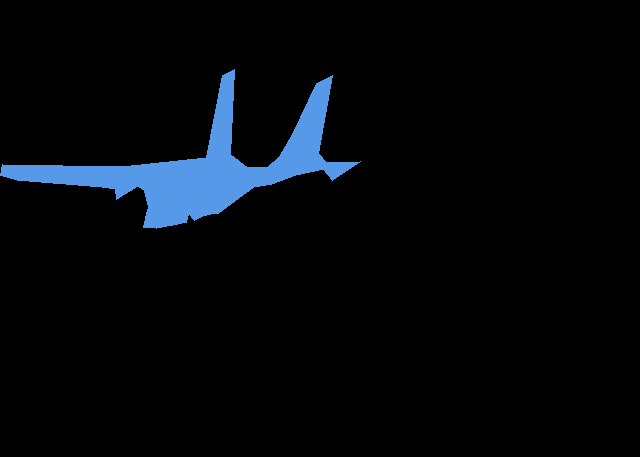Airplane: (0, 69, 360, 228)
